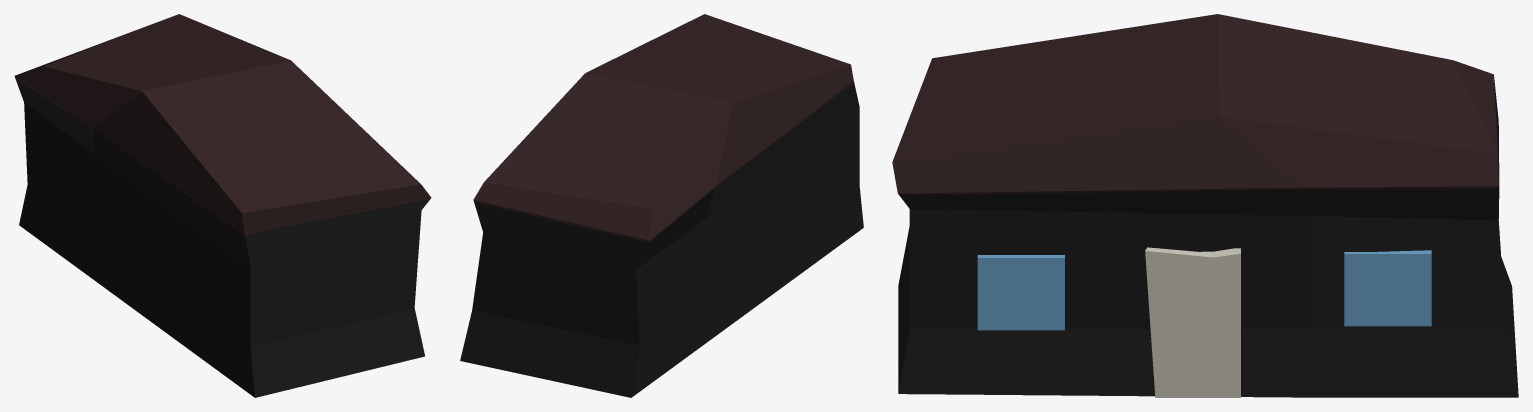
File: casa_03.fbx
The picture shows the model from 3 angles, left to right: view 1: azimuth 30°, elevation 25°; view 2: azimuth 150°, elevation 25°; view 3: azimuth 270°, elevation 25°; orthographic projection. The views are drawn at different scales.
Visible parts, largest first — view 1: Cube; view 2: Cube; view 3: Cube, Cube.001, Cube.002, Cube.003.
Boxes of the visible parts, x1=… form: Cube: x1=14, y1=14, x2=431, y2=397; Cube: x1=460, y1=14, x2=863, y2=397; Cube: x1=892, y1=14, x2=1518, y2=397; Cube.001: x1=1145, y1=247, x2=1240, y2=397; Cube.002: x1=977, y1=255, x2=1064, y2=330; Cube.003: x1=1344, y1=250, x2=1431, y2=326.
Bounding box in the file's own units: 229 × 252 × 509.
